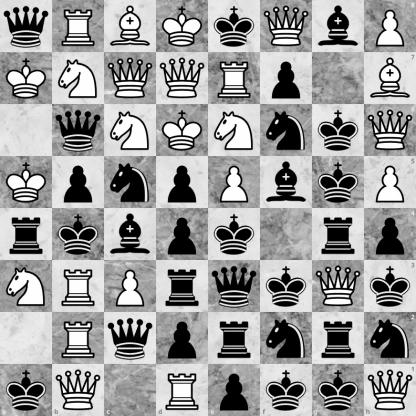B: (364, 52, 416, 104), (105, 1, 156, 52)
K: (1, 53, 52, 104), (1, 157, 52, 208), (157, 1, 208, 52), (157, 105, 208, 156)
N: (1, 261, 52, 312), (53, 53, 104, 104), (105, 105, 156, 156), (209, 105, 260, 156)
P: (364, 156, 416, 209), (364, 0, 416, 52), (105, 261, 156, 312), (209, 157, 260, 208)
Q: (52, 364, 104, 416), (364, 104, 416, 156), (364, 364, 416, 416), (105, 53, 156, 104), (157, 53, 208, 104), (261, 1, 312, 52), (313, 261, 364, 312)
R: (156, 364, 209, 416), (53, 1, 104, 52), (53, 261, 104, 312), (53, 313, 104, 364), (209, 53, 260, 104)
b: (105, 209, 156, 260), (261, 157, 312, 208), (313, 1, 364, 52)
board: (0, 0, 415, 415)
k: (0, 364, 52, 416), (260, 364, 312, 416), (312, 364, 364, 416), (364, 260, 416, 312), (53, 209, 104, 260), (209, 1, 260, 52), (209, 209, 260, 260), (261, 261, 312, 312), (313, 105, 364, 156), (313, 157, 364, 208)
n: (364, 312, 416, 364), (105, 157, 156, 208), (261, 105, 312, 156), (261, 313, 312, 364)
p: (209, 364, 260, 416), (364, 209, 416, 260), (53, 157, 104, 208), (157, 157, 208, 208), (157, 209, 208, 260), (157, 313, 208, 364), (261, 53, 312, 104)
q: (1, 1, 52, 52), (53, 105, 104, 156), (105, 313, 156, 364), (209, 261, 260, 312)
r: (1, 209, 52, 260), (157, 261, 208, 312), (209, 313, 260, 364), (313, 209, 364, 260), (313, 313, 364, 364)
